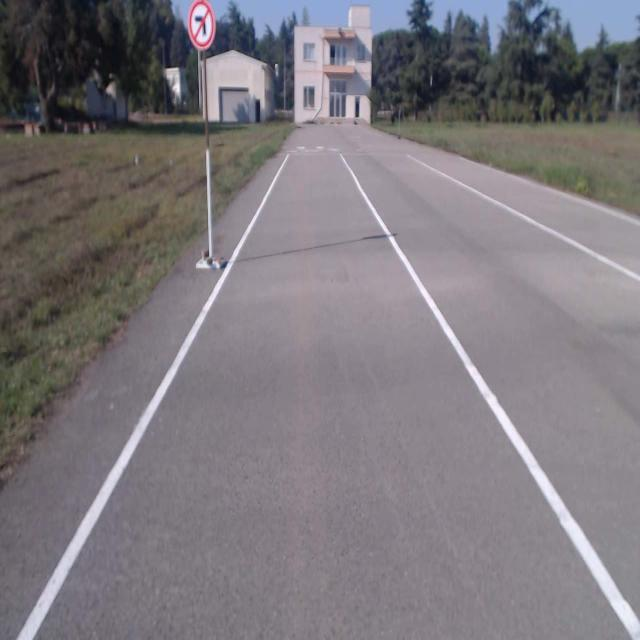soladonulmez: (188, 1, 216, 49)
